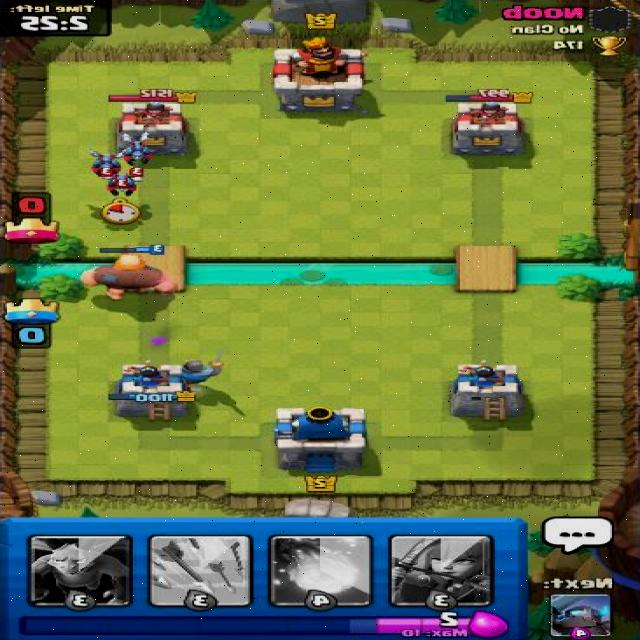Enemy-Minion: (114, 132, 156, 178), (86, 146, 129, 179), (100, 171, 145, 197)
Player-Giant: (73, 243, 182, 302)
Player-Knight: (164, 350, 229, 393)
